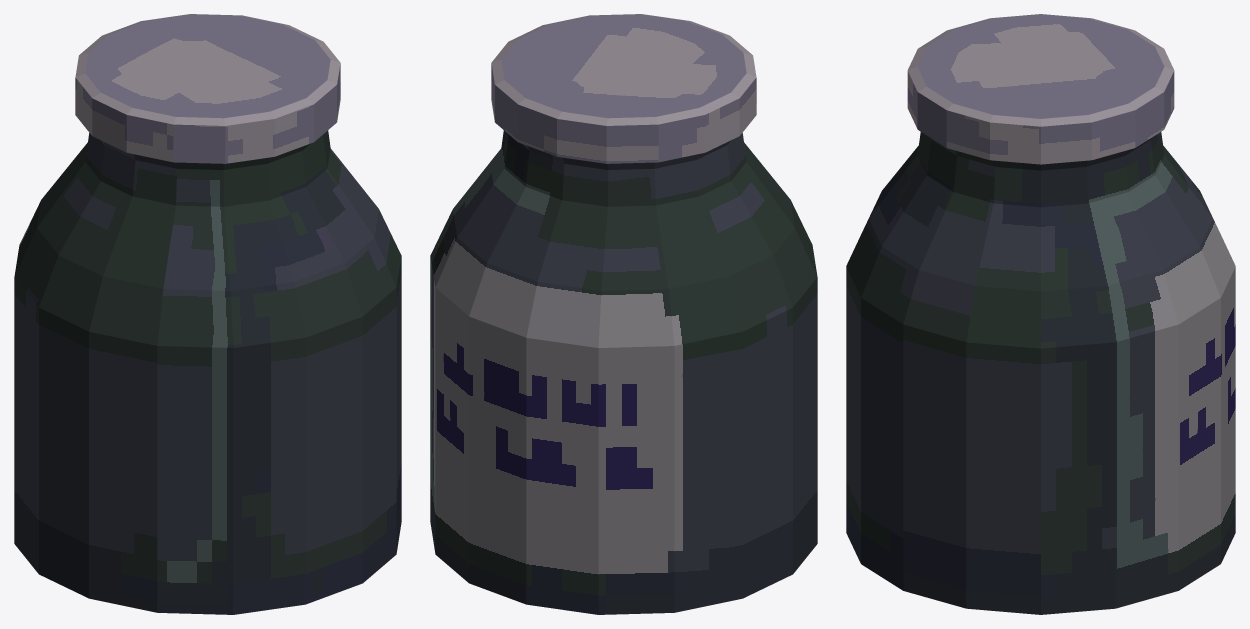
File: Medication1.3.fbx
3 views of the same model, side by side, from view 1: azimuth 30°, elevation 25°; view 2: azimuth 150°, elevation 25°; view 3: azimuth 270°, elevation 25° (orthographic).
Visible parts, largest first — view 1: Cylinder.002; view 2: Cylinder.002; view 3: Cylinder.002.
Boxes of the visible parts, x1,y1,x2,y2 form: Cylinder.002: (14,14,401,614); Cylinder.002: (430,14,817,614); Cylinder.002: (846,14,1235,614).
Size of the model in its own units: 172 by 227 by 172.
Materials: 1 (1 with a texture image).
